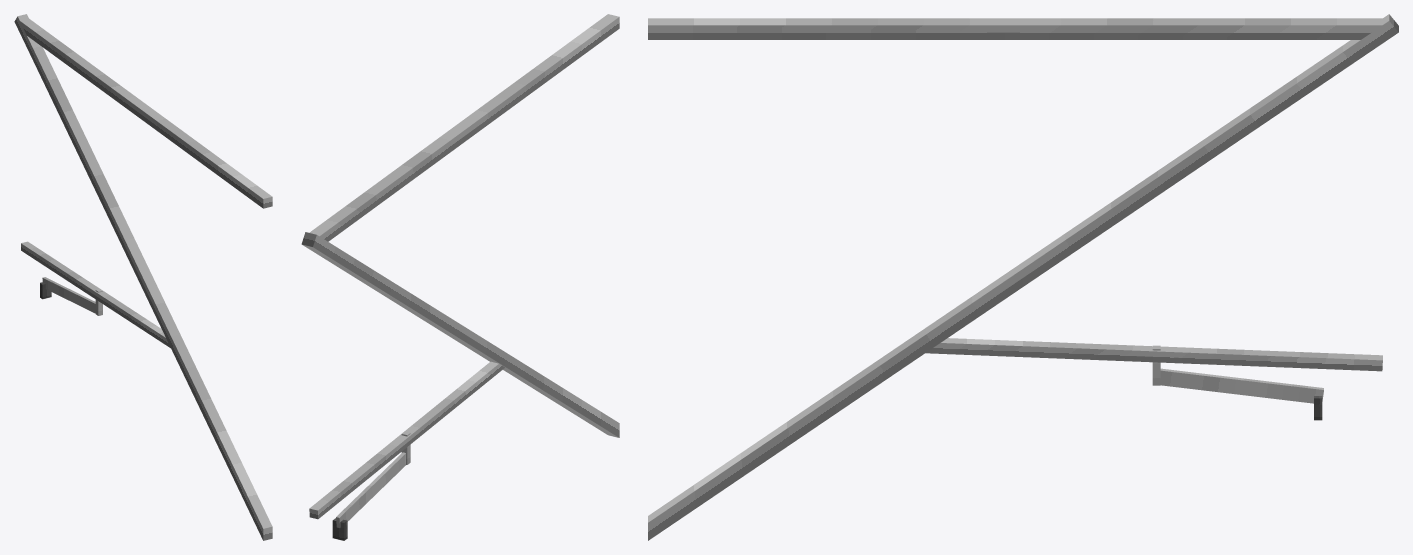
File: cantilever_inner_5px.obj
The picture shows the model from 3 angles, left to right: view 1: azimuth 30°, elevation 25°; view 2: azimuth 150°, elevation 25°; view 3: azimuth 270°, elevation 25°; orthographic projection. The views are drawn at different scales.
Visible parts, largest first — view 1: efda4e98-0028-45e8-8a50-9e0cecad7241, f1eda018-c0c4-405d-8374-2031c2fbea40, 5763a5c5-56fe-464a-9759-875ffccbca45, 0f86e5f1-f926-4e10-8f27-82188e0ae7d1; view 2: f1eda018-c0c4-405d-8374-2031c2fbea40, efda4e98-0028-45e8-8a50-9e0cecad7241, 5763a5c5-56fe-464a-9759-875ffccbca45, 0f86e5f1-f926-4e10-8f27-82188e0ae7d1; view 3: efda4e98-0028-45e8-8a50-9e0cecad7241, f1eda018-c0c4-405d-8374-2031c2fbea40, 5763a5c5-56fe-464a-9759-875ffccbca45, 0f86e5f1-f926-4e10-8f27-82188e0ae7d1.
Boxes of the visible parts, left/top/right/bottom form: efda4e98-0028-45e8-8a50-9e0cecad7241: left=14, top=14, right=272, bottom=540; f1eda018-c0c4-405d-8374-2031c2fbea40: left=20, top=18, right=272, bottom=208; 5763a5c5-56fe-464a-9759-875ffccbca45: left=21, top=241, right=170, bottom=348; 0f86e5f1-f926-4e10-8f27-82188e0ae7d1: left=42, top=277, right=95, bottom=313; f1eda018-c0c4-405d-8374-2031c2fbea40: left=309, top=14, right=619, bottom=241; efda4e98-0028-45e8-8a50-9e0cecad7241: left=301, top=232, right=619, bottom=437; 5763a5c5-56fe-464a-9759-875ffccbca45: left=309, top=361, right=504, bottom=519; 0f86e5f1-f926-4e10-8f27-82188e0ae7d1: left=336, top=452, right=405, bottom=527; efda4e98-0028-45e8-8a50-9e0cecad7241: left=648, top=14, right=1398, bottom=540; f1eda018-c0c4-405d-8374-2031c2fbea40: left=648, top=18, right=1382, bottom=39; 5763a5c5-56fe-464a-9759-875ffccbca45: left=925, top=338, right=1382, bottom=371; 0f86e5f1-f926-4e10-8f27-82188e0ae7d1: left=1160, top=368, right=1323, bottom=403.
Size of the model in its own units: 0.0625 by 2.22 by 2.91.
